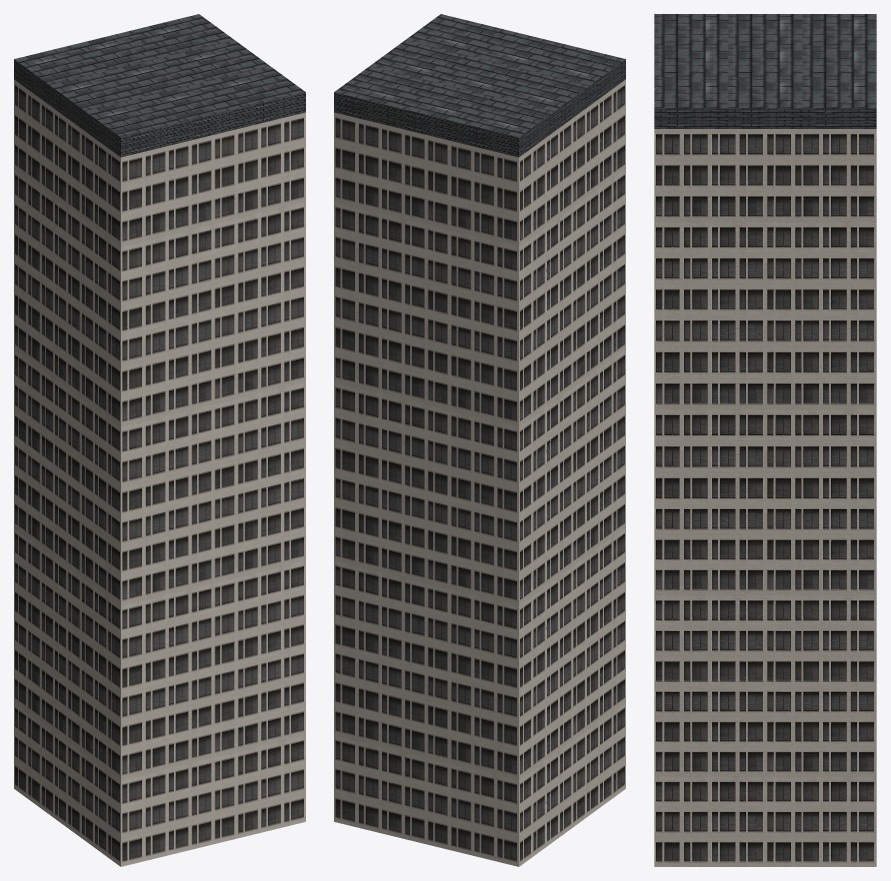
File: 24_Storey_Building.FBX
The picture shows the model from 3 angles, left to right: view 1: azimuth 30°, elevation 25°; view 2: azimuth 150°, elevation 25°; view 3: azimuth 270°, elevation 25°; orthographic projection. The views are drawn at different scales.
Visible parts, largest first — view 1: Box003; view 2: Box003; view 3: Box003.
Boxes of the visible parts, <box> form: Box003: <box>14,14,305,866</box>; Box003: <box>334,14,625,866</box>; Box003: <box>654,14,876,866</box>.
Bounding box in the file's own units: 35 × 132 × 35.
Materials: 2 (2 with a texture image).
